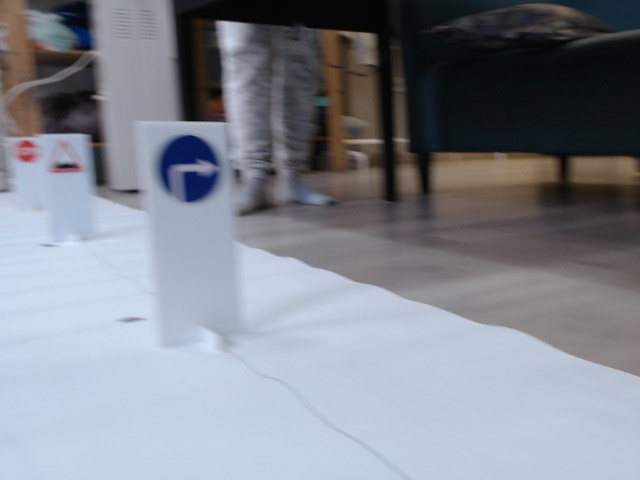Nerov: (48, 141, 86, 174)
Right: (157, 139, 220, 201)
